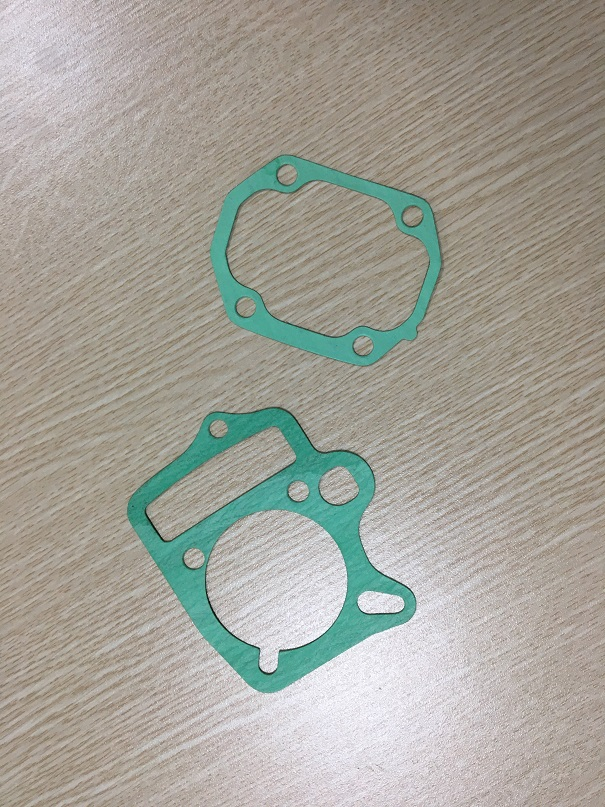type2: (204, 148, 452, 374)
type4: (117, 401, 422, 701)
